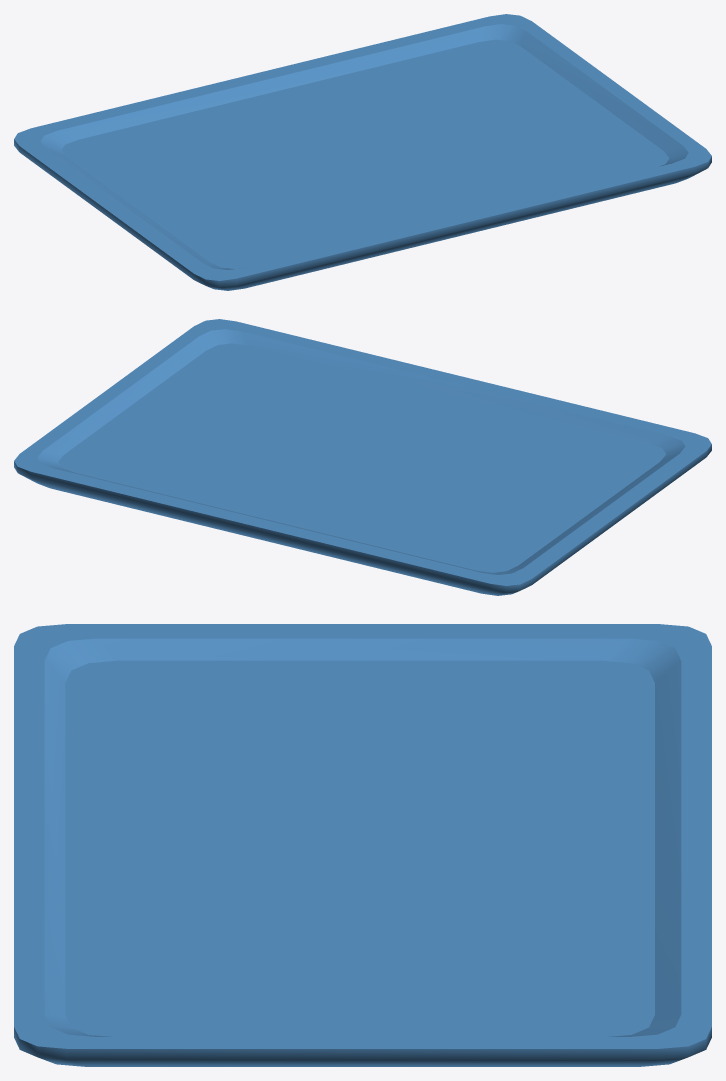
Rendered from Tray_low.fbx.
3 renders of one model, top to bottom at view 1: azimuth 30°, elevation 25°; view 2: azimuth 150°, elevation 25°; view 3: azimuth 270°, elevation 25°, orthographic. The views are drawn at different scales.
Visible parts, largest first — view 1: tray:tray; view 2: tray:tray; view 3: tray:tray.
Part boxes in pixels (left/top/right/bottom): tray:tray: left=14, top=14, right=711, bottom=290; tray:tray: left=14, top=319, right=711, bottom=595; tray:tray: left=14, top=624, right=711, bottom=1066.
Bounding box in the file's own units: 38.33 × 1.25 × 26.62.
